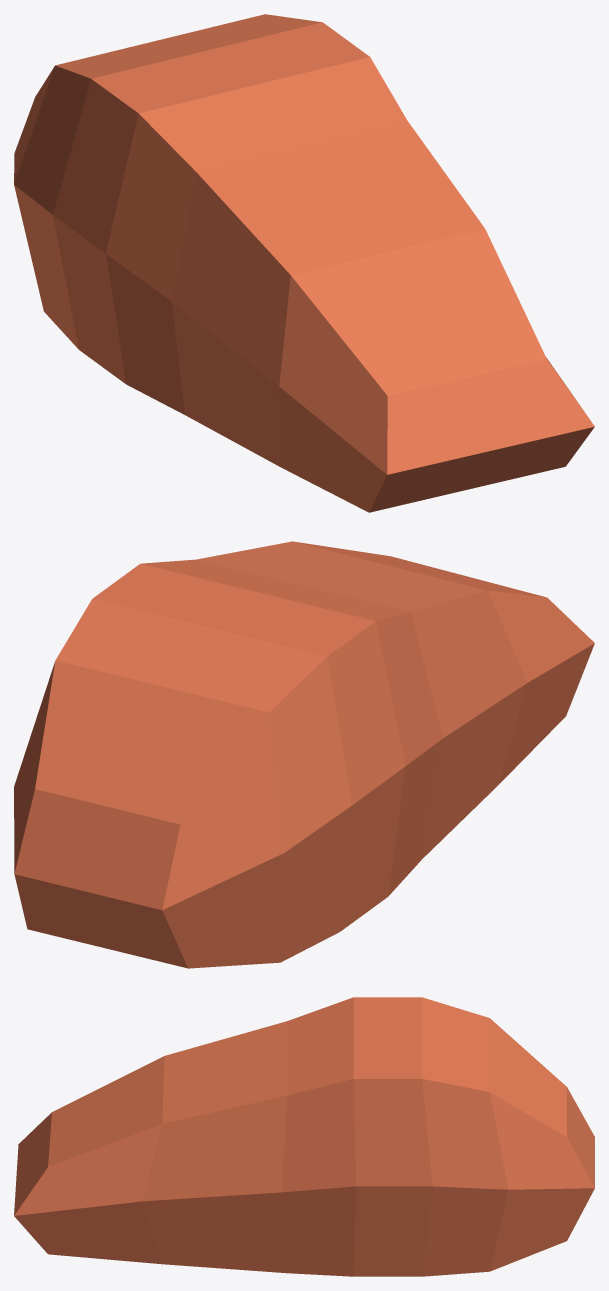
Rendered from salmon.glb.
3 renders of one model, top to bottom at view 1: azimuth 30°, elevation 25°; view 2: azimuth 150°, elevation 25°; view 3: azimuth 270°, elevation 25°, orthographic. The views are drawn at different scales.
Visible parts, largest first — view 1: Cube; view 2: Cube; view 3: Cube.
Boxes of the visible parts, bbox=[...] form: Cube: bbox=[14, 14, 594, 512]; Cube: bbox=[14, 541, 594, 968]; Cube: bbox=[14, 997, 594, 1276].
Size of the model in its own units: 2.29 by 2 by 5.44.
